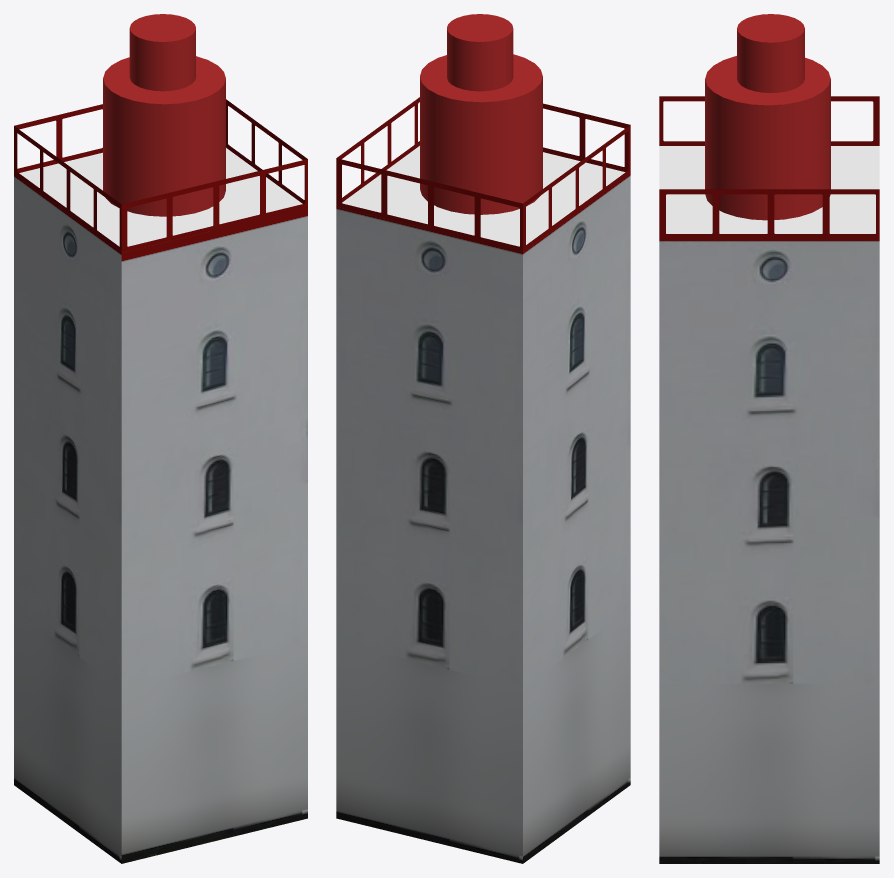
Rendered from rosnaes_l.dae.
3 views of the same model, side by side, from view 1: azimuth 30°, elevation 25°; view 2: azimuth 150°, elevation 25°; view 3: azimuth 270°, elevation 25° (orthographic). The views are drawn at different scales.
Parts seen in each view (by area): view 1: mesh0%root%0%, mesh0%root%1%, mesh0%root%2%; view 2: mesh0%root%0%, mesh0%root%1%, mesh0%root%2%; view 3: mesh0%root%0%, mesh0%root%1%, mesh0%root%2%.
Part boxes in pixels (box(x1,y1,x2,y2)): mesh0%root%0%: box(14, 99, 307, 863); mesh0%root%1%: box(103, 14, 225, 216); mesh0%root%2%: box(19, 148, 302, 246); mesh0%root%0%: box(336, 97, 630, 863); mesh0%root%1%: box(420, 14, 542, 214); mesh0%root%2%: box(342, 146, 625, 246); mesh0%root%0%: box(659, 96, 879, 863); mesh0%root%1%: box(705, 14, 830, 220); mesh0%root%2%: box(659, 146, 879, 233).
Size of the model in its own units: 3.88 by 15.4 by 3.88.
Materials: 3 (1 with a texture image).
